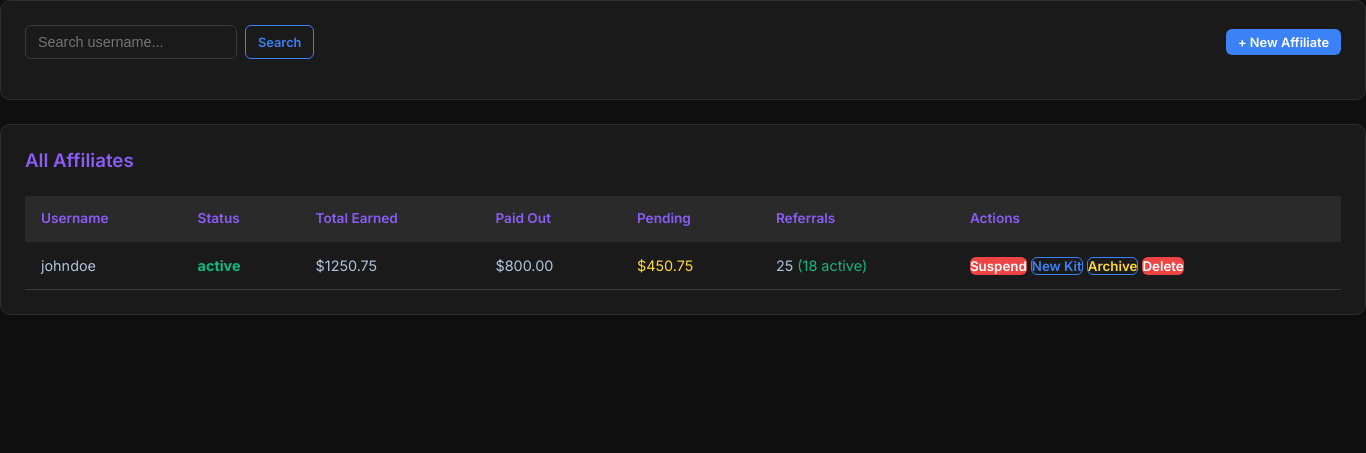
Test: Create Affiliate form › hides form when Cancel is clicked
Click the button "+ New Affiliate" at x=1284, y=42, box 1226,29 -> 1341,55
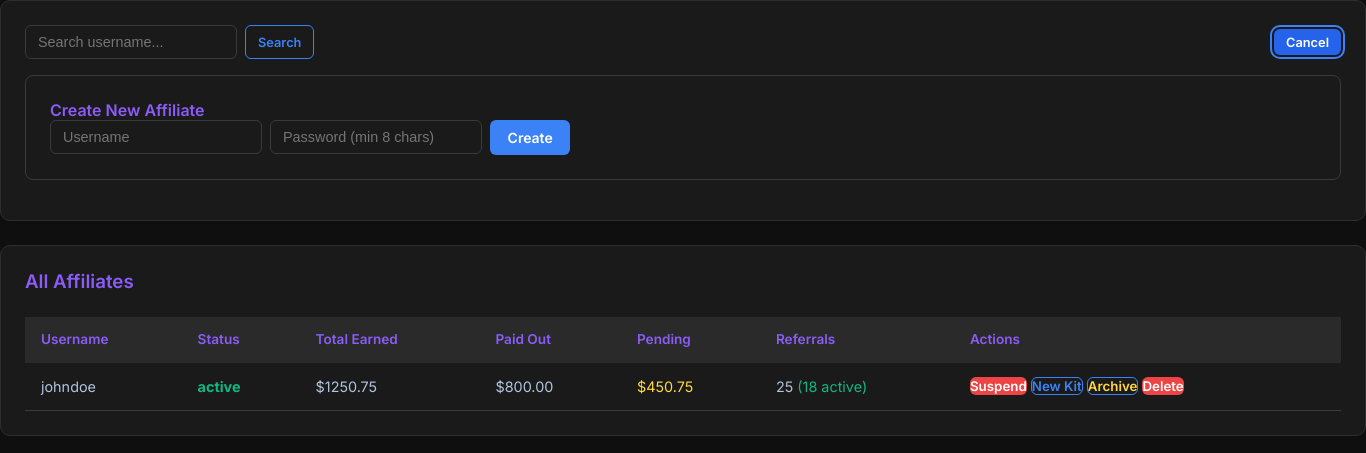
Click the button "Cancel" at x=1308, y=42, box 1274,29 -> 1341,55
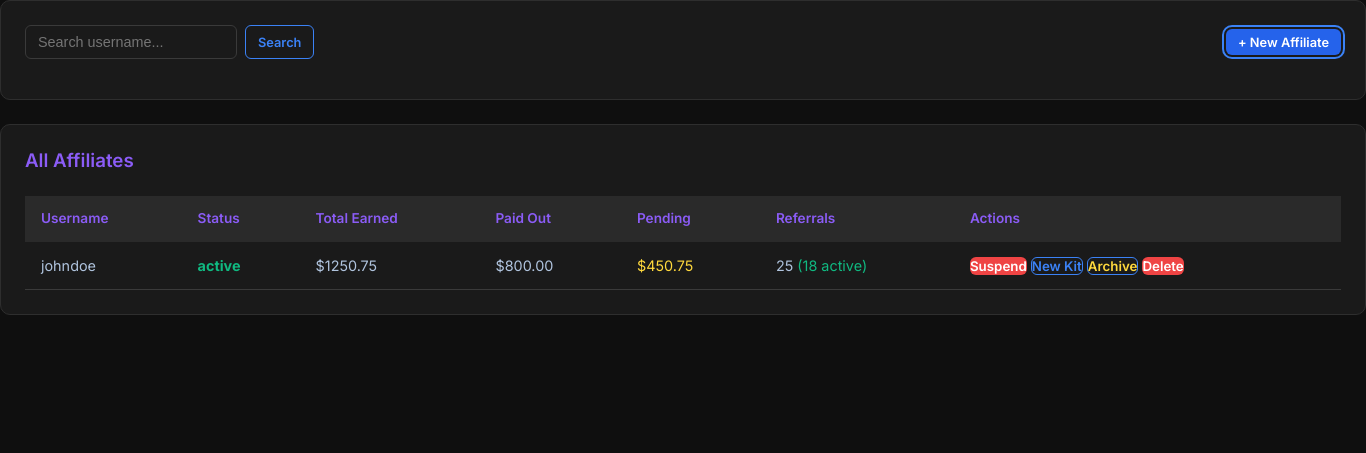
Expected: the heading "Create New Affiliate" is gone
